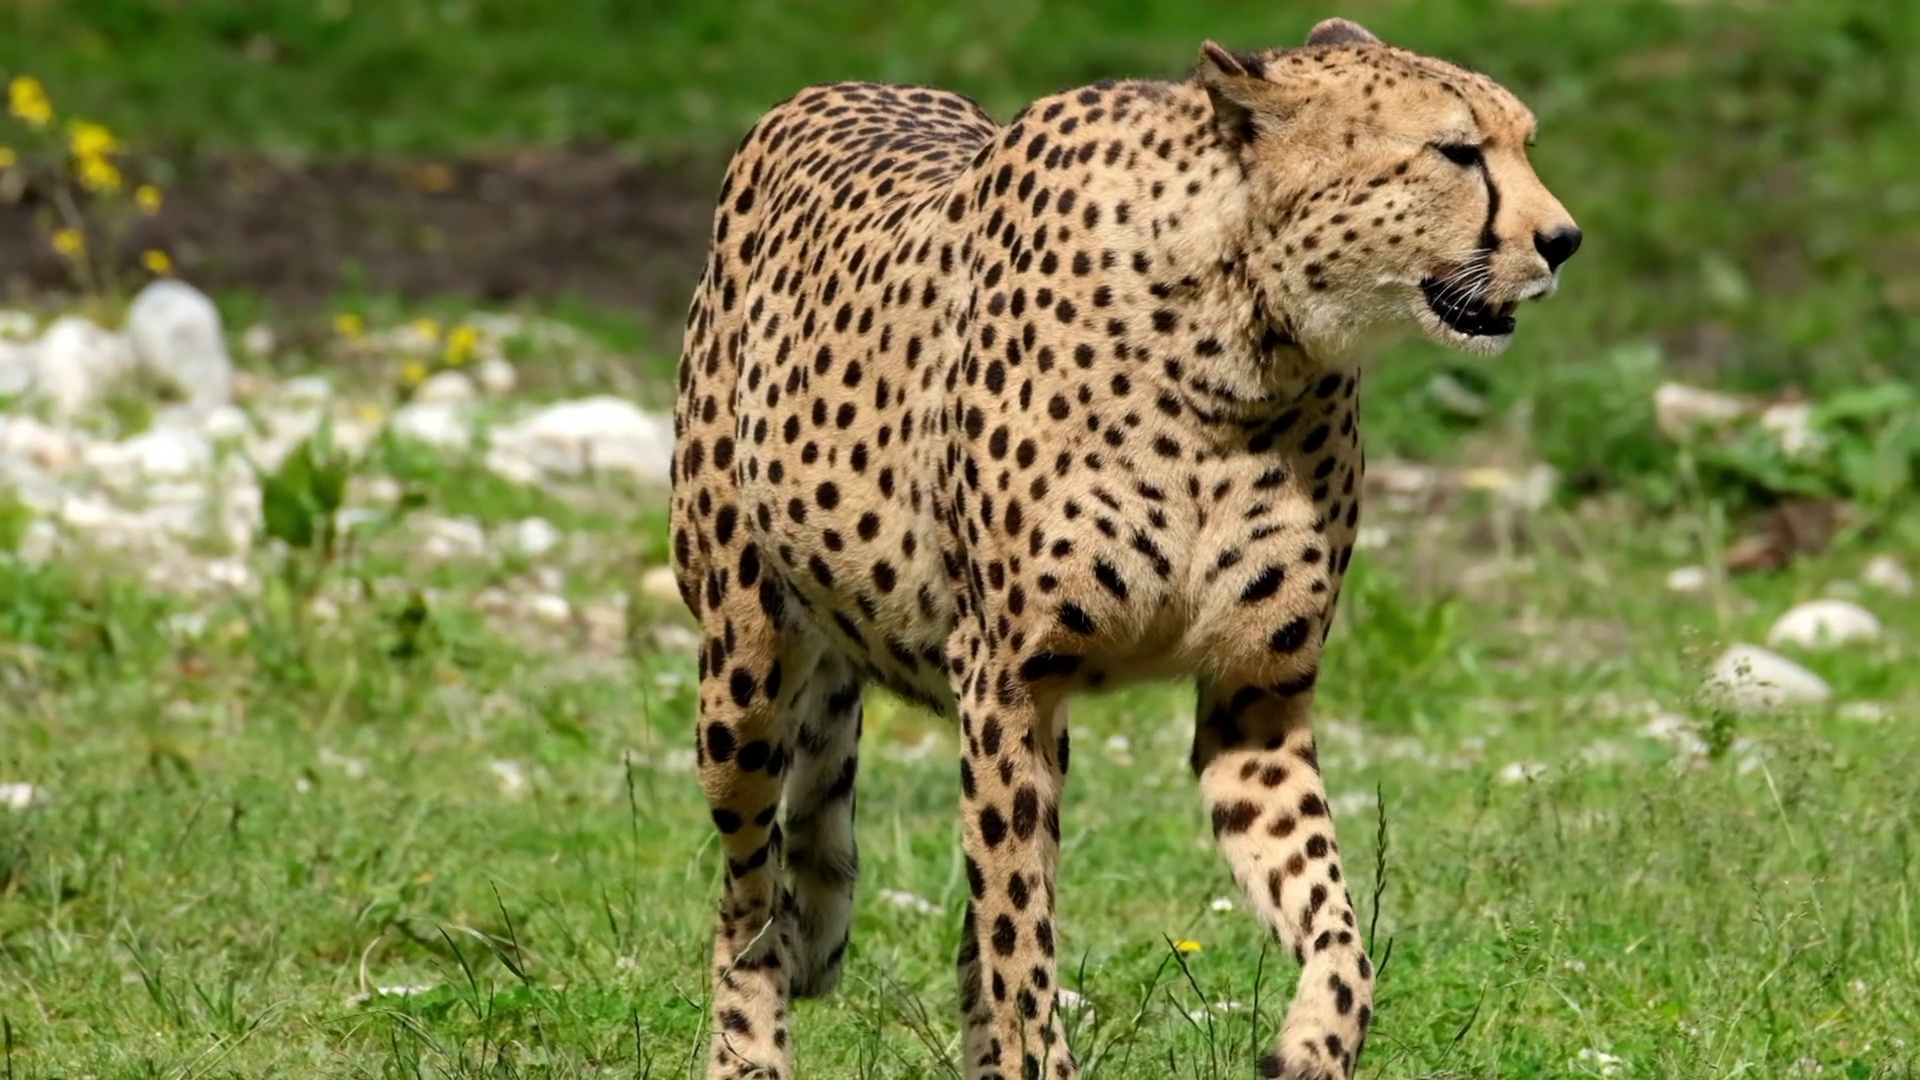Cheetah: (666, 15, 1590, 1080)
